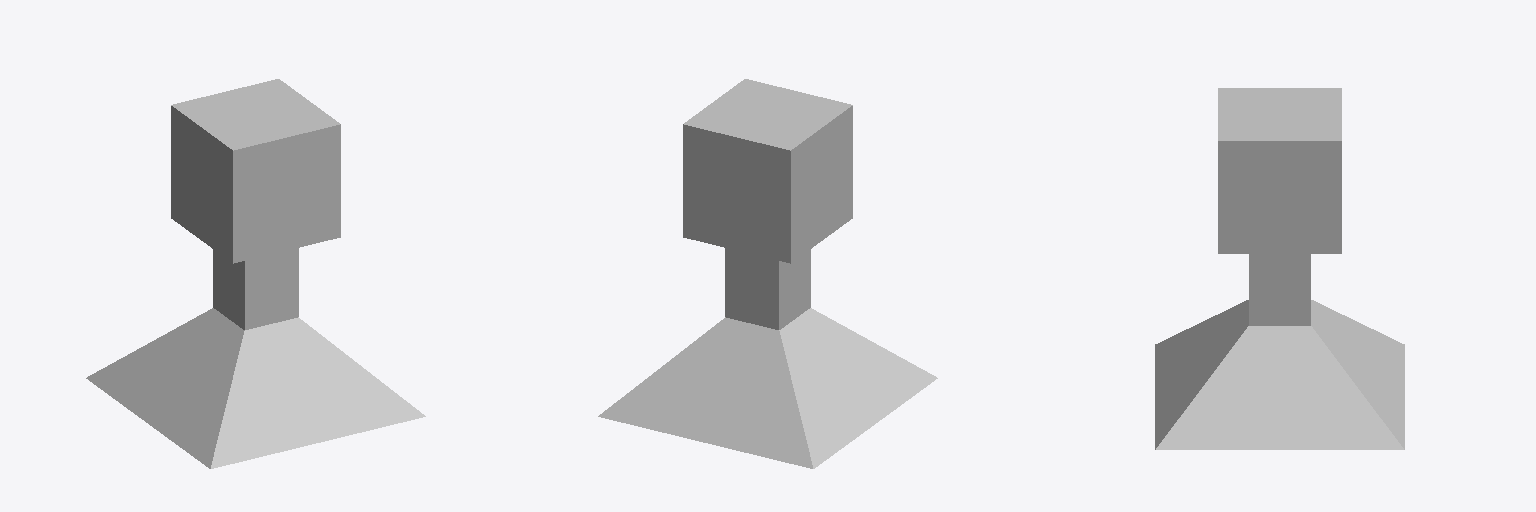
File: simple_test.obj
The picture shows the model from 3 angles: view 1: azimuth 30°, elevation 25°; view 2: azimuth 150°, elevation 25°; view 3: azimuth 270°, elevation 25°; orthographic projection.
Visible parts, largest first — view 1: cube, pyramid; view 2: cube, pyramid; view 3: pyramid, cube.
Boxes of the visible parts, box(x1,y1,x2,y2) form: cube: box(171, 79, 340, 329); pyramid: box(86, 308, 425, 468); cube: box(683, 79, 852, 329); pyramid: box(598, 308, 937, 468); pyramid: box(1155, 300, 1404, 449); cube: box(1218, 88, 1341, 325).
Size of the model in its own units: 1 by 1.25 by 1.